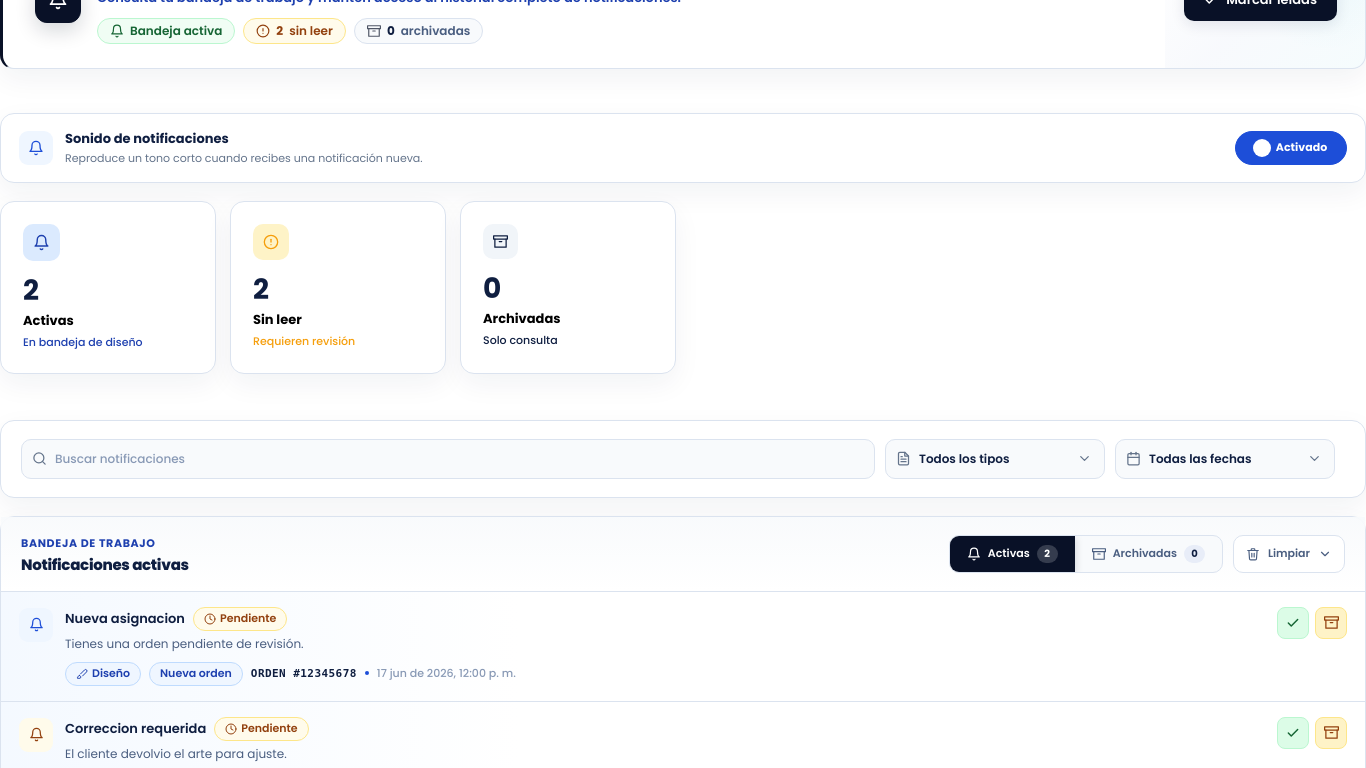
DesignerNotificationsModule › filters notifications by search text and type
(page scrolled)
Type "correccion" into the search field with placeholder "Buscar notificaciones" at [460, 459], box 55,450 -> 864,468
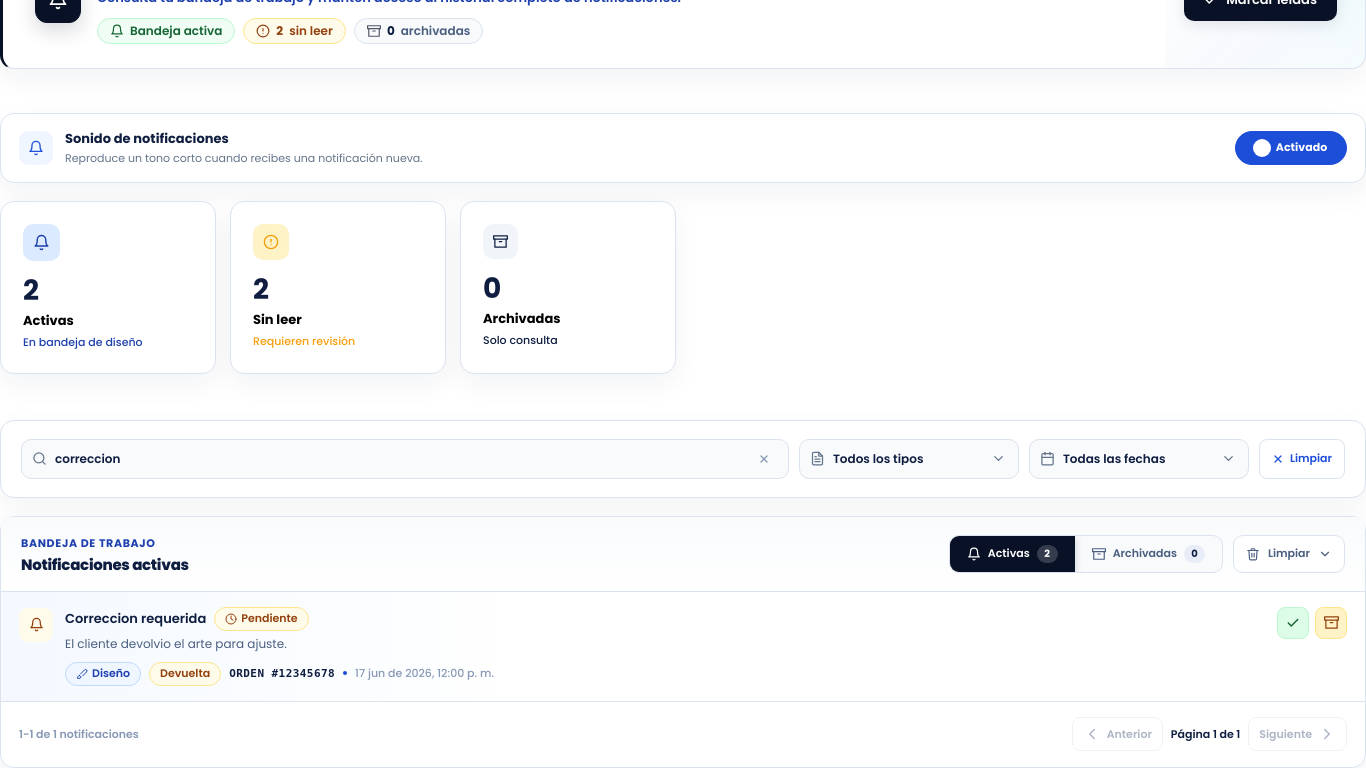
Check: the text "Correccion requerida" is shown, box 65,610 -> 206,628
Check: the text "Nueva asignacion" is gone
Clear the search field with placeholder "Buscar notificaciones" at [398, 459], box 55,450 -> 742,468
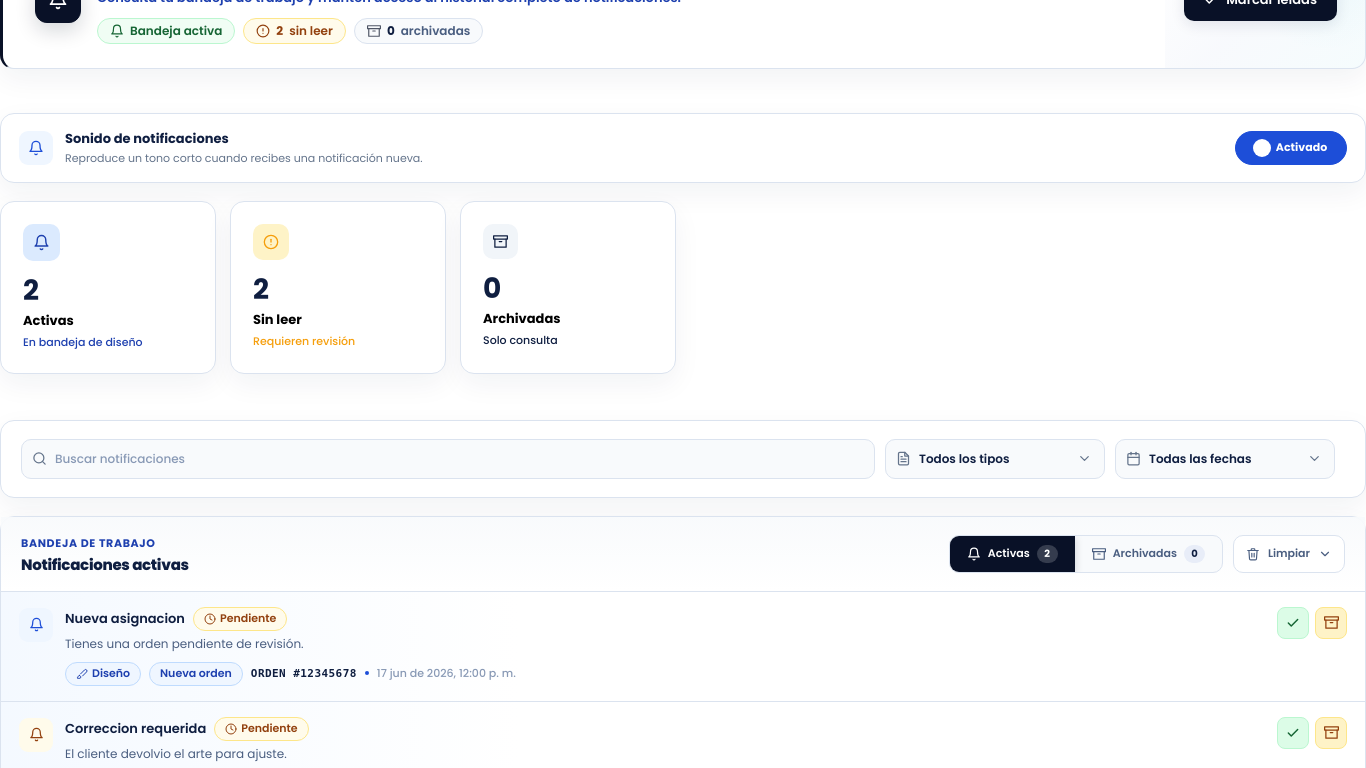
Select "Devuelta" in the dropdown named "Filtrar por tipo" at [1006, 459], box 919,453 -> 1094,465
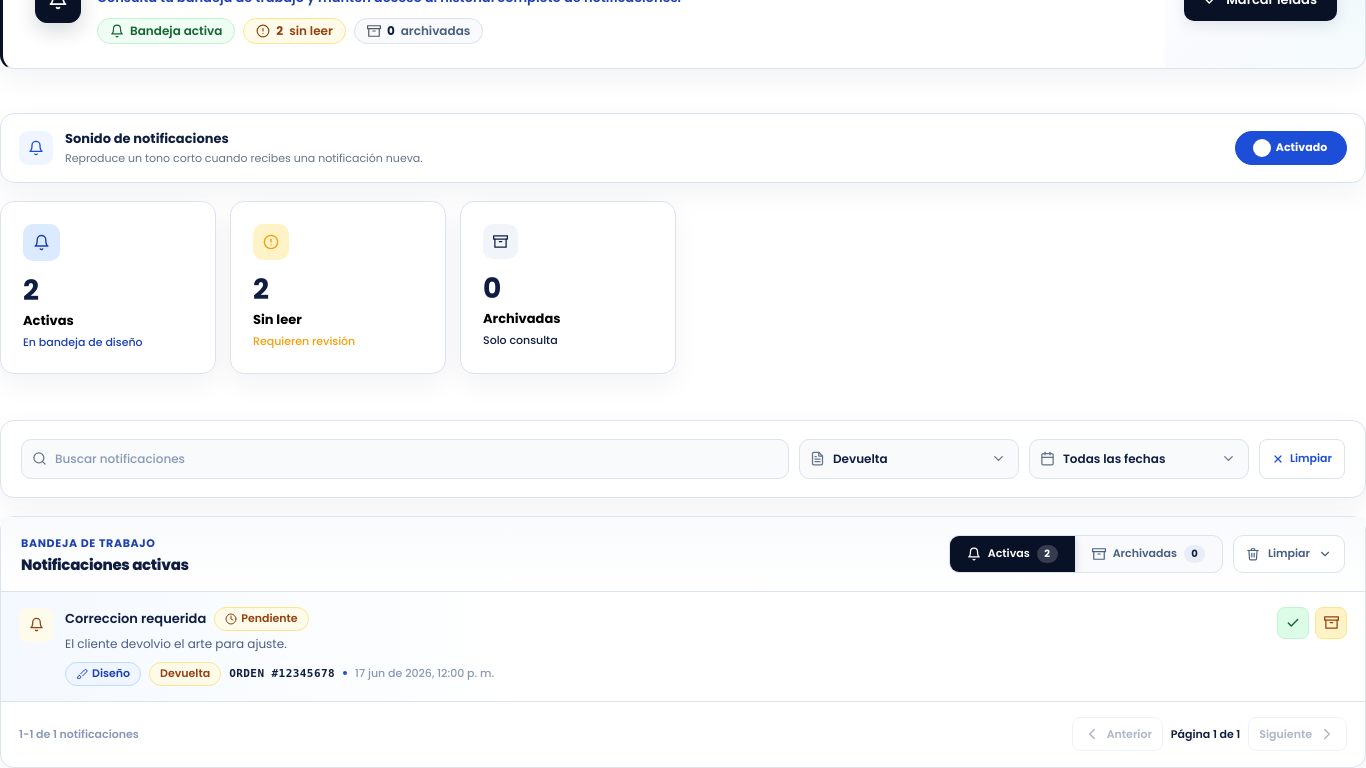
Check: the text "Correccion requerida" is shown, box 65,610 -> 206,628
Check: the text "Nueva asignacion" is gone
